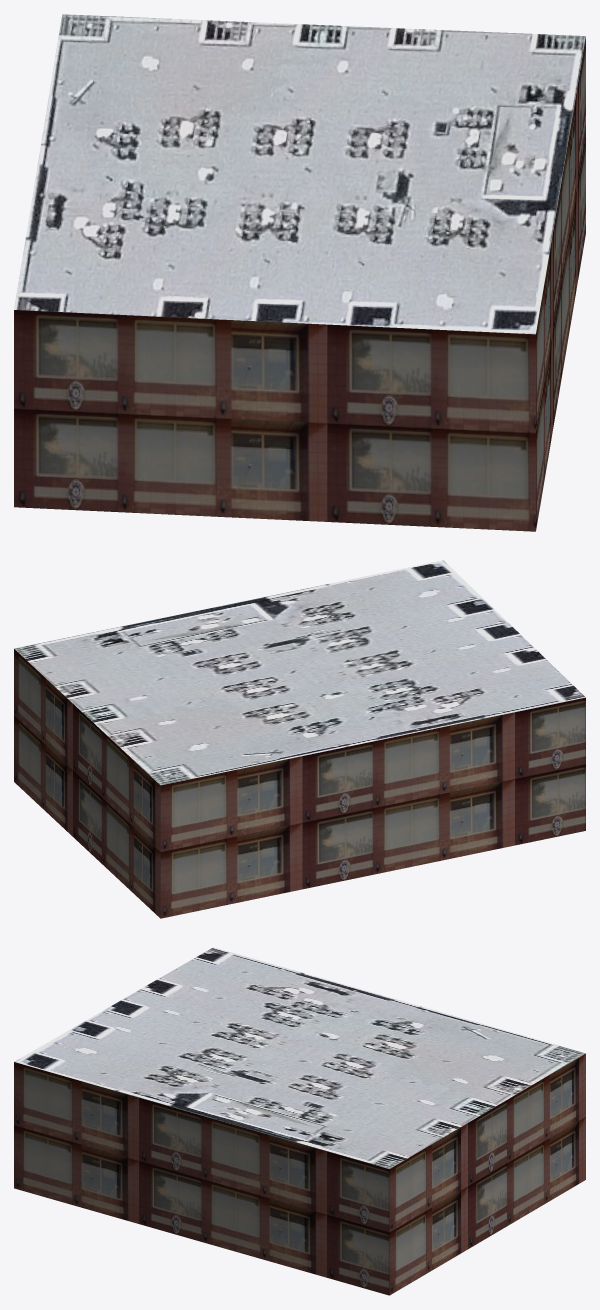
The model's file is ResTex__4788.fbx.
The picture shows the model from 3 angles, top to bottom: view 1: azimuth 30°, elevation 25°; view 2: azimuth 150°, elevation 25°; view 3: azimuth 270°, elevation 25°; orthographic projection. The views are drawn at different scales.
Visible parts, largest first — view 1: CityEngineMaterial_m, CityEngineMaterial_13_m; view 2: CityEngineMaterial_13_m, CityEngineMaterial_m; view 3: CityEngineMaterial_13_m, CityEngineMaterial_m.
Boxes of the visible parts, bbox=[...] form: CityEngineMaterial_m: bbox=[14, 14, 585, 334]; CityEngineMaterial_13_m: bbox=[14, 37, 585, 531]; CityEngineMaterial_13_m: bbox=[14, 649, 585, 918]; CityEngineMaterial_m: bbox=[14, 560, 585, 785]; CityEngineMaterial_13_m: bbox=[14, 1053, 585, 1295]; CityEngineMaterial_m: bbox=[14, 947, 585, 1168].
Bounding box in the file's own units: 22.57 × 6 × 24.59.
2 materials, 2 textured.
